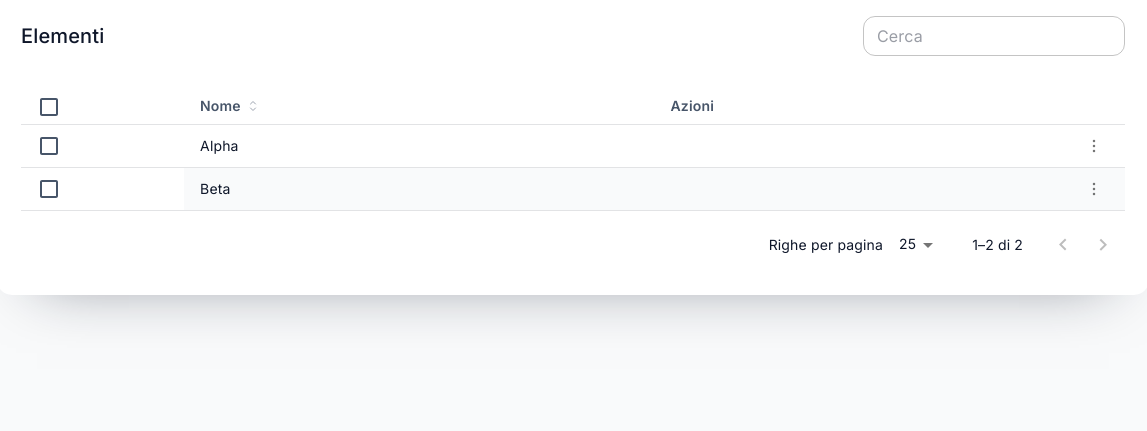
Test: ListPage bulk selection › shows the bulk-edit button only when a bulkEditable field exists
The image size is (1147, 431).
Check: the text "Alpha" is shown, box [184,124,655,168]
Click the checkbox named "Seleziona tutte le righe" at (49, 107), box [37,95,61,119]
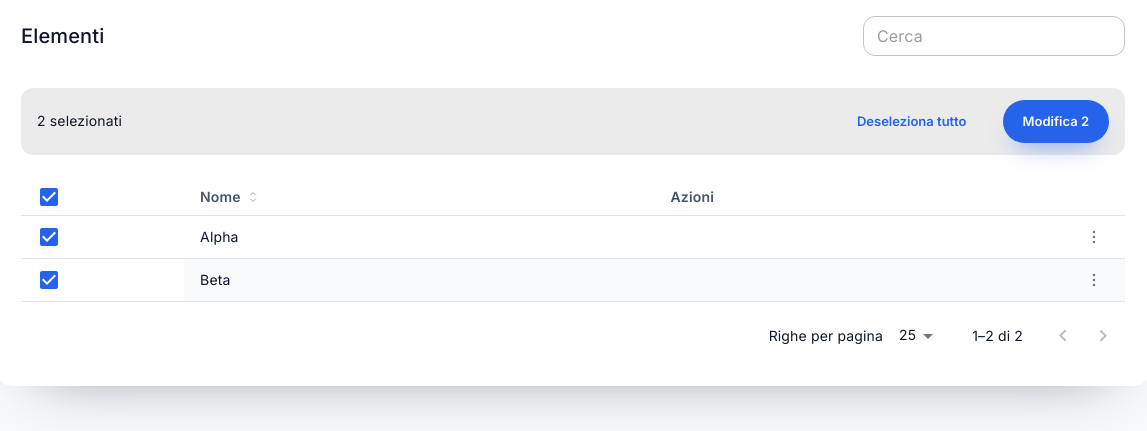
Check: the text "2 selezionati" is shown, box [37,110,122,133]
Check: the button "Modifica 2" is shown, box [1002,100,1109,143]
